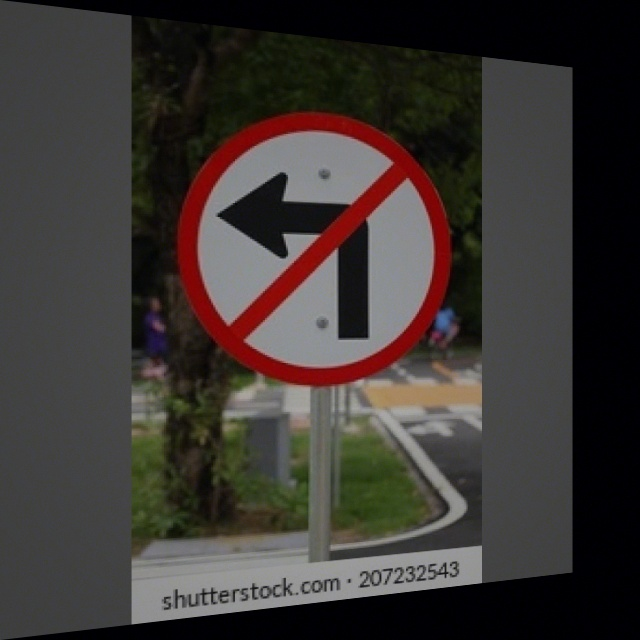Left_Turn_Prohibited: (176, 99, 454, 393)
